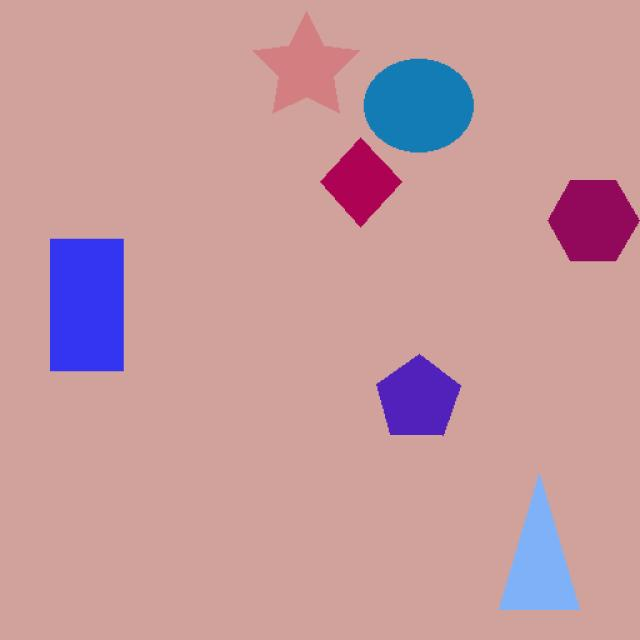Circle: (358, 54, 486, 163)
Hexagon: (544, 172, 639, 290)
Pentagon: (361, 335, 475, 447)
Rectangle: (36, 235, 153, 386)
Star: (247, 11, 371, 131)
Triangle: (492, 458, 604, 622)
square: (311, 128, 425, 239)
